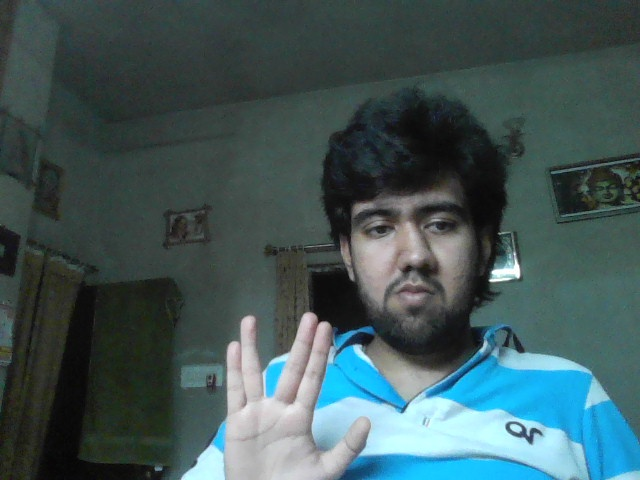LiveLong: (226, 311, 372, 480)
